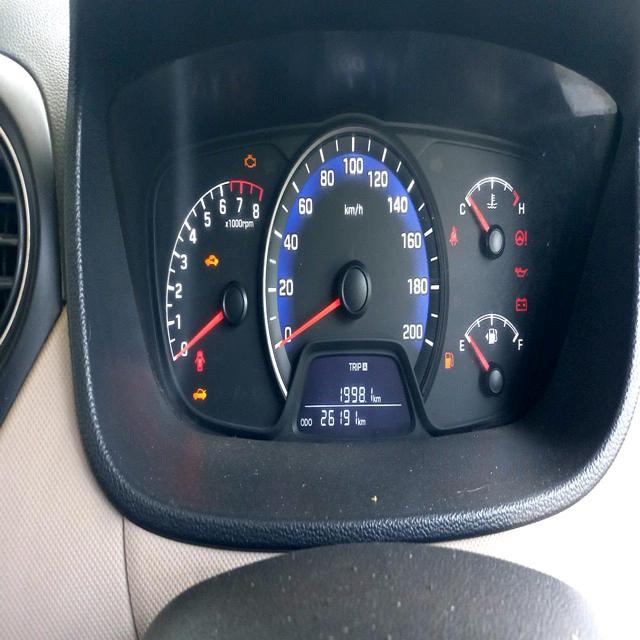odometer: (319, 407, 357, 428)
